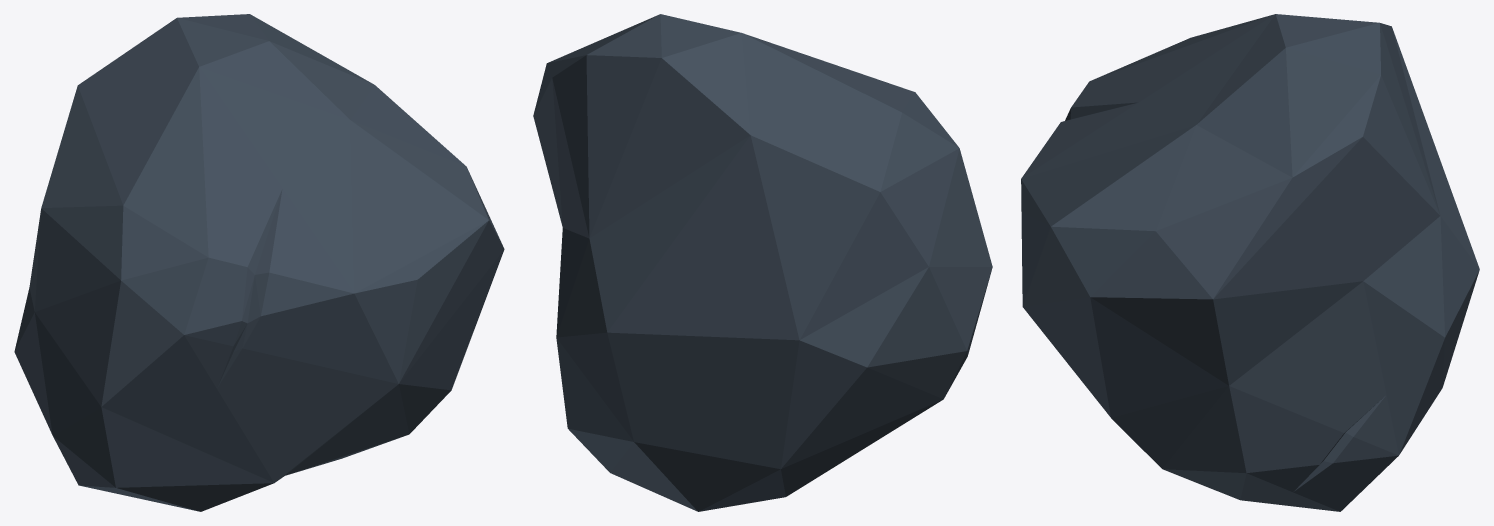
Rendered from Rock006.obj.
The picture shows the model from 3 angles, left to right: view 1: azimuth 30°, elevation 25°; view 2: azimuth 150°, elevation 25°; view 3: azimuth 270°, elevation 25°; orthographic projection. The views are drawn at different scales.
Parts seen in each view (by area): view 1: Stone_Material; view 2: Stone_Material; view 3: Stone_Material.
Part boxes in pixels (x1,y1,x2,y2): Stone_Material: [14, 14, 504, 511]; Stone_Material: [533, 14, 992, 511]; Stone_Material: [1021, 14, 1479, 511].
Bounding box in the file's own units: 2.38 × 2.38 × 2.18.
1 material, 1 textured.
